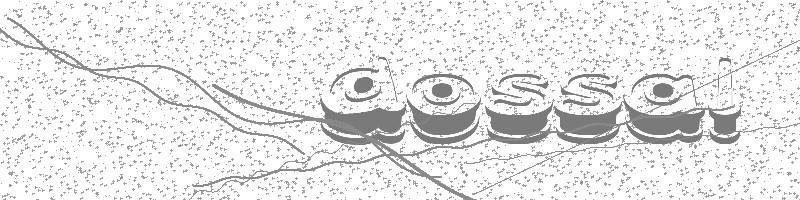a: (624, 74, 704, 144)
d: (323, 57, 407, 146)
l: (709, 57, 741, 144)
o: (407, 74, 480, 144)
s: (553, 73, 621, 144), (487, 74, 553, 144)
